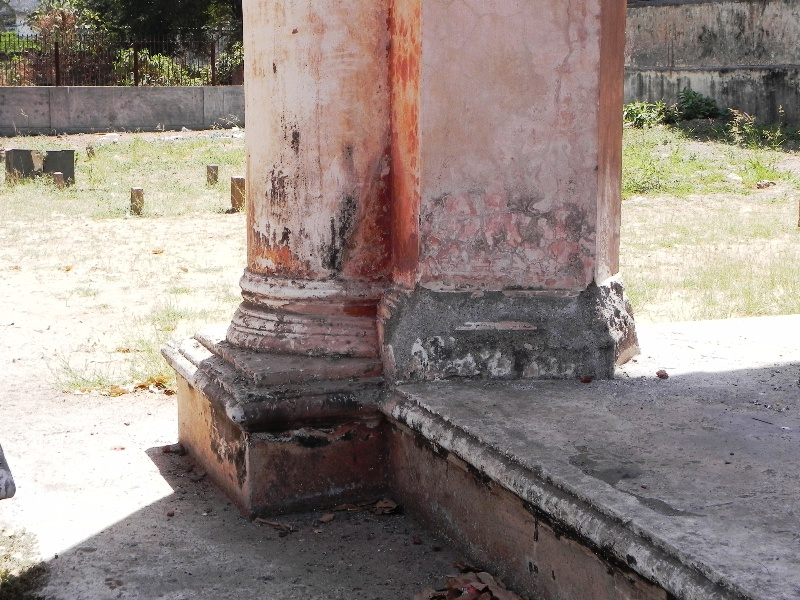Spalling: (379, 272, 635, 365)
